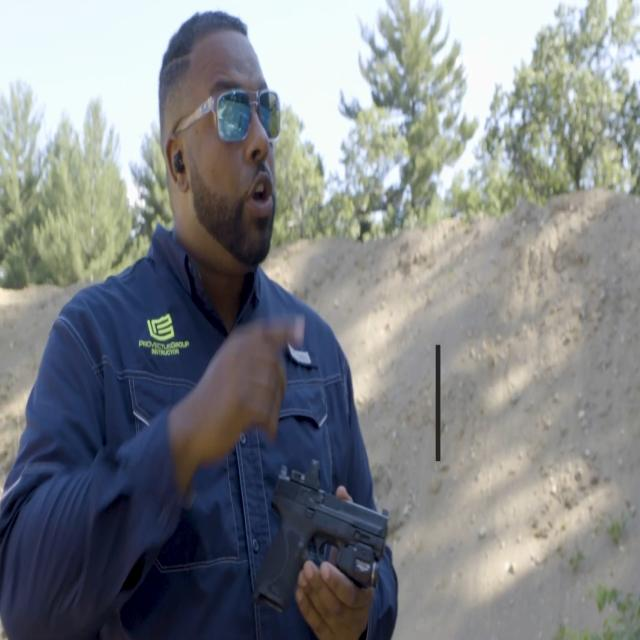Gun_Holder: (253, 445, 414, 640)
Person: (8, 0, 408, 640)
